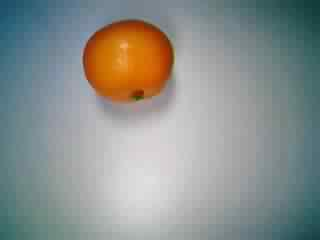orange: (80, 12, 179, 109)
